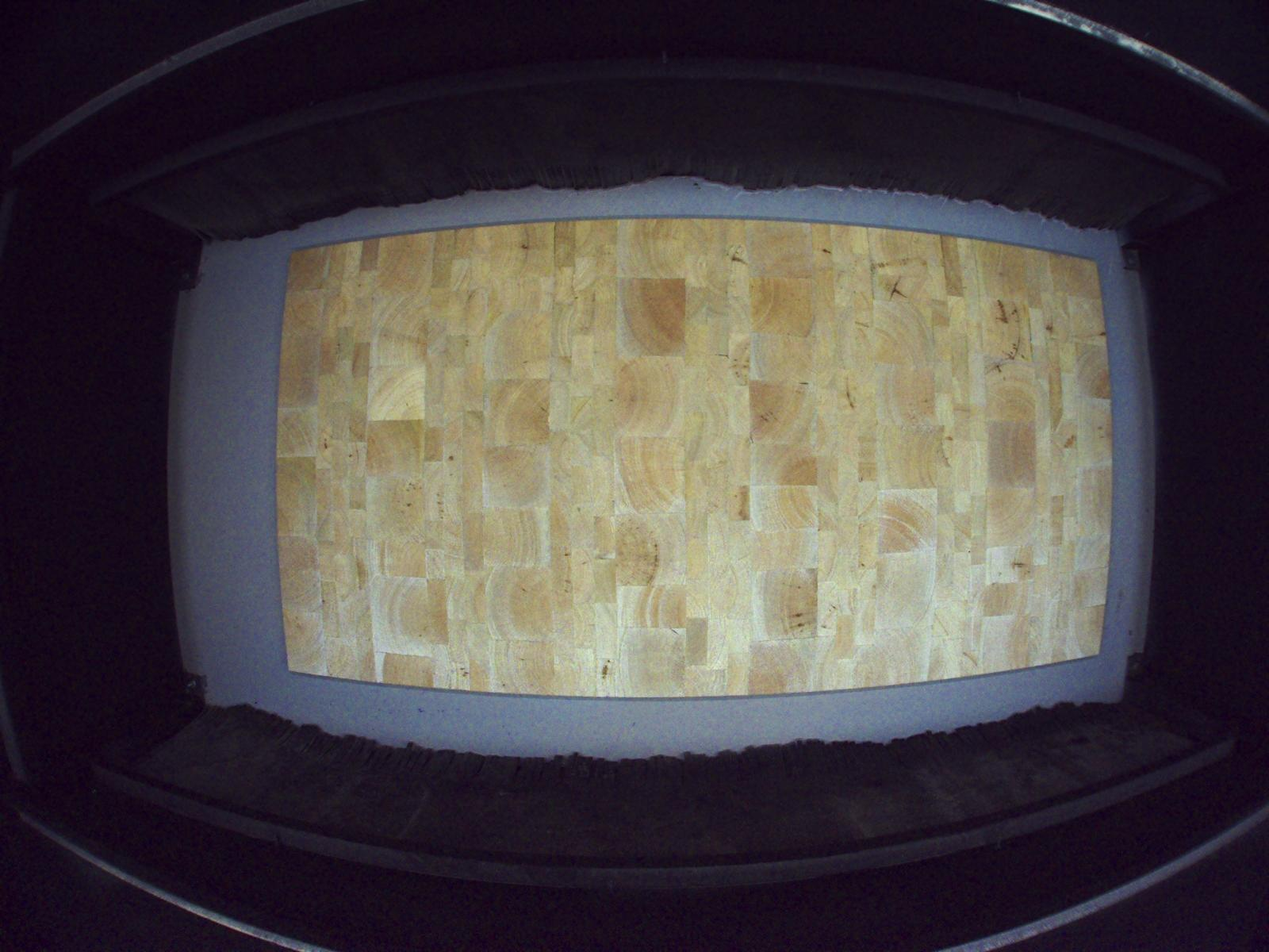sheck_ecuatoriano: (727, 244, 748, 276), (519, 223, 531, 276), (983, 359, 1018, 377), (888, 274, 908, 302)
